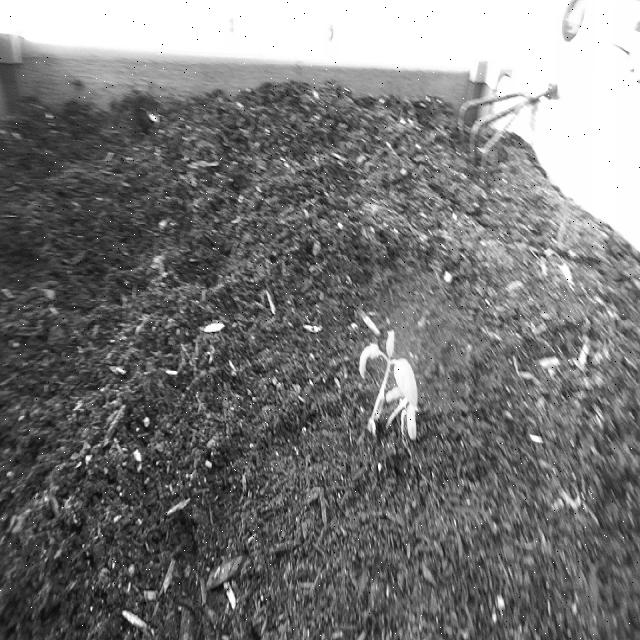Healthy: (357, 324, 421, 448)
